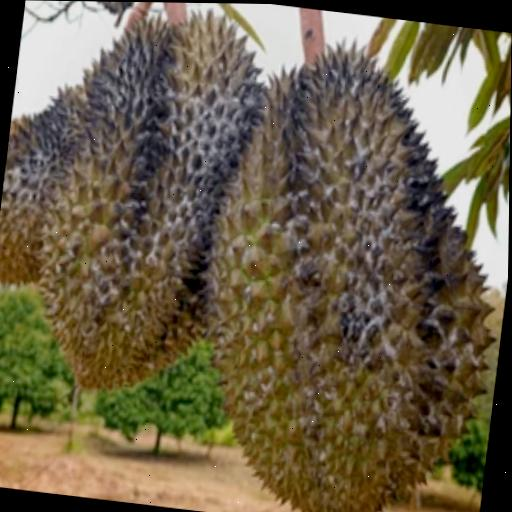mold: (281, 44, 466, 439), (77, 27, 263, 352), (2, 110, 84, 201)
